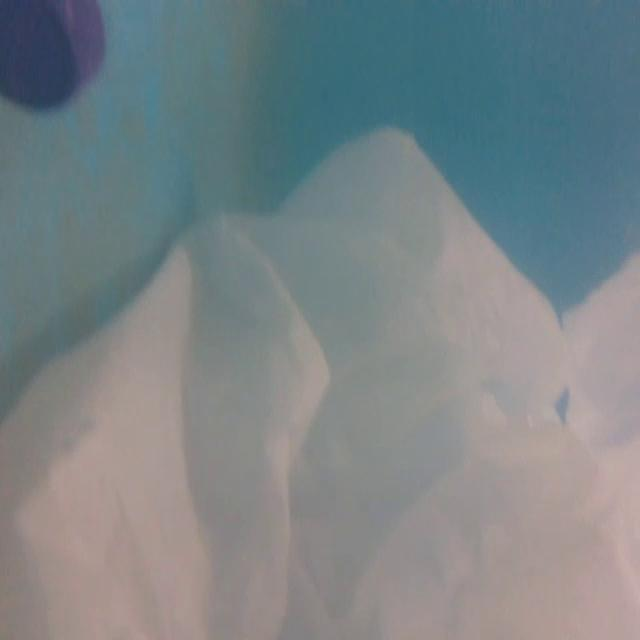plastic bags: (2, 204, 640, 640)
